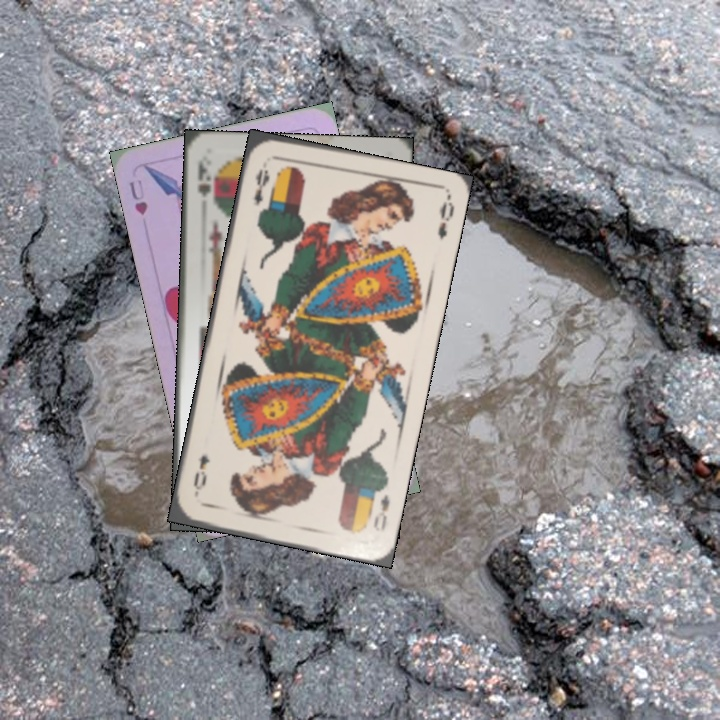EO: (249, 165, 273, 208), (369, 490, 392, 534)
HU: (125, 175, 150, 218)
SK: (193, 155, 217, 208)
